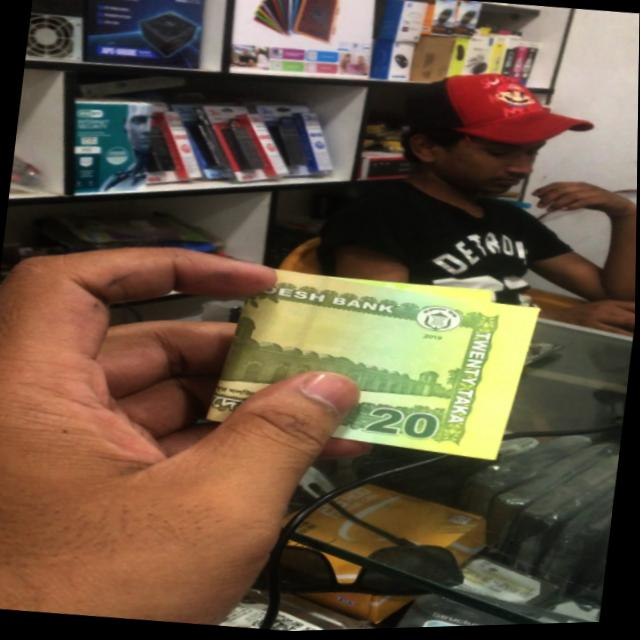Taka: (226, 258, 535, 475)
